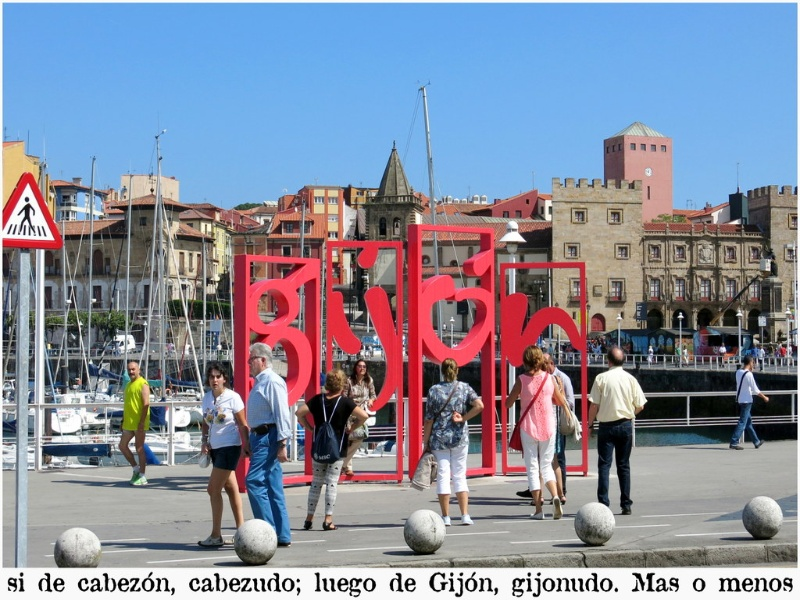pedestrian_crossing_ahead: (4, 169, 69, 253)
